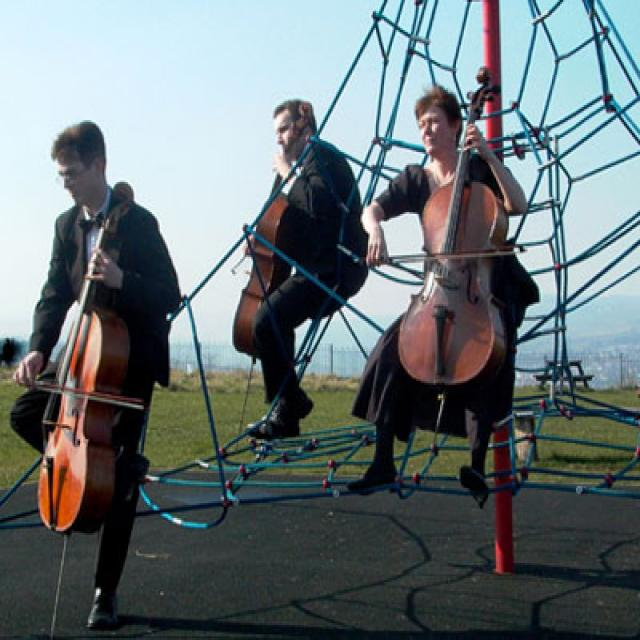cello: (396, 67, 510, 394), (36, 181, 134, 533), (230, 103, 322, 354)
